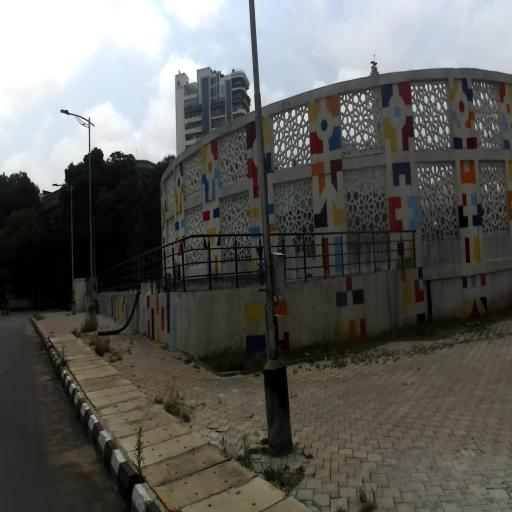street_light_0: (61, 110, 94, 132), (52, 184, 73, 192)
